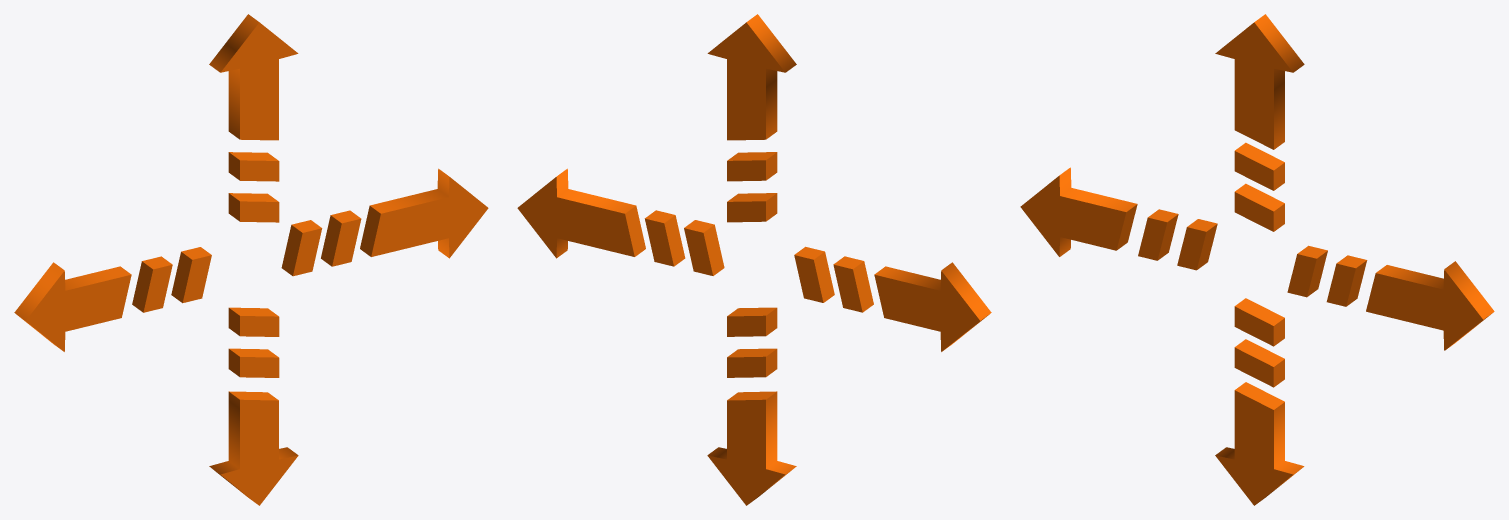
The model's file is 4arrows.obj.
3 renders of one model, left to right at view 1: azimuth 30°, elevation 25°; view 2: azimuth 150°, elevation 25°; view 3: azimuth 330°, elevation 25°, orthographic.
Parts seen in each view (by area): view 1: Box003, Box008, Box005, Box013, Box004, Box007, Box002, Box006, Box009, Box010, Box011, Box012; view 2: Box003, Box008, Box005, Box013, Box007, Box002, Box006, Box004, Box011, Box012, Box009, Box010; view 3: Box008, Box003, Box013, Box005, Box011, Box012, Box009, Box010, Box006, Box007, Box004, Box002.
Boxes of the visible parts, box(x1,y1,x2,y2) form: Box003: box(360, 168, 488, 258); Box008: box(209, 14, 298, 140); Box005: box(14, 262, 131, 351); Box013: box(209, 391, 298, 505); Box004: box(281, 220, 322, 276); Box007: box(132, 256, 172, 312); Box002: box(321, 210, 361, 266); Box006: box(171, 247, 211, 303); Box009: box(228, 152, 279, 181); Box010: box(228, 193, 279, 222); Box011: box(228, 307, 279, 336); Box012: box(228, 348, 279, 377); Box003: box(517, 168, 645, 258); Box008: box(707, 14, 796, 140); Box005: box(874, 262, 991, 351); Box013: box(707, 391, 796, 505); Box007: box(833, 256, 873, 312); Box002: box(644, 210, 685, 266); Box006: box(794, 246, 834, 302); Box004: box(684, 220, 724, 275); Box011: box(727, 307, 777, 336); Box012: box(727, 348, 777, 377); Box009: box(727, 152, 777, 181); Box010: box(727, 193, 777, 222); Box008: box(1215, 14, 1304, 149); Box003: box(1366, 261, 1494, 350); Box013: box(1215, 382, 1304, 505); Box005: box(1020, 167, 1137, 256); Box011: box(1234, 298, 1284, 346); Box012: box(1234, 339, 1284, 387); Box009: box(1234, 142, 1284, 190); Box010: box(1234, 183, 1284, 231); Box006: box(1177, 219, 1217, 270); Box007: box(1138, 209, 1178, 260); Box004: box(1287, 245, 1327, 297); Box002: box(1326, 255, 1367, 306).
Bounding box in the file's own units: 47.28 × 47.19 × 2.01.
